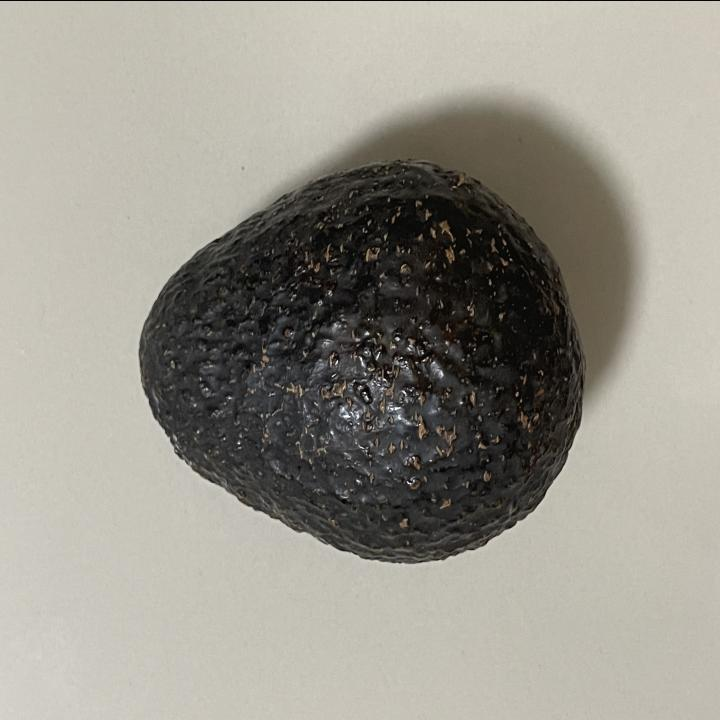Level3: (126, 148, 592, 576)
